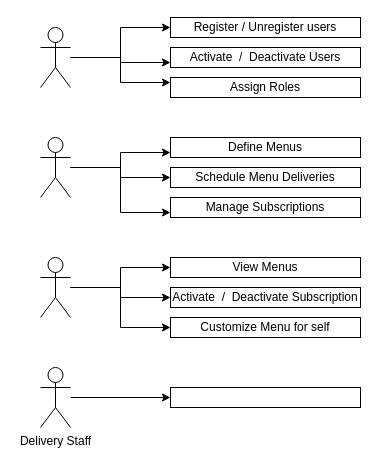
The diagram is 378 pixels wide and 466 high, and some of its shapes have lost their labels. Each missing label, with the centre of its shape:
Admin: the point at 55,57
Kitchen Admin: the point at 55,167
Subscriber: the point at 55,287
View Deliveries: the point at 265,397
